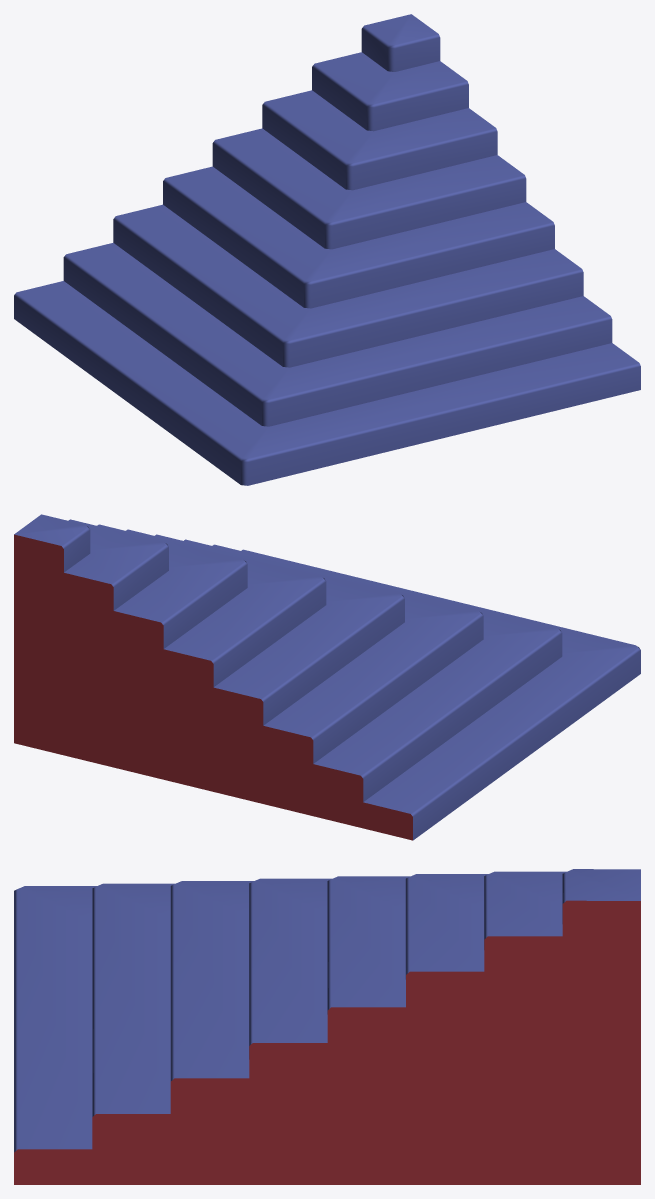
Rendered from SM_Stair_Corner_2x2_01.fbx.
3 renders of one model, top to bottom at view 1: azimuth 30°, elevation 25°; view 2: azimuth 150°, elevation 25°; view 3: azimuth 270°, elevation 25°, orthographic. The views are drawn at different scales.
Visible parts, largest first — view 1: SM_Stair_Corner_2x2_01; view 2: SM_Stair_Corner_2x2_01; view 3: SM_Stair_Corner_2x2_01.
Boxes of the visible parts, x1=… form: SM_Stair_Corner_2x2_01: x1=14, y1=14, x2=640, y2=485; SM_Stair_Corner_2x2_01: x1=14, y1=514, x2=640, y2=840; SM_Stair_Corner_2x2_01: x1=14, y1=869, x2=640, y2=1184.
Bounding box in the file's own units: 200 × 100 × 200.
